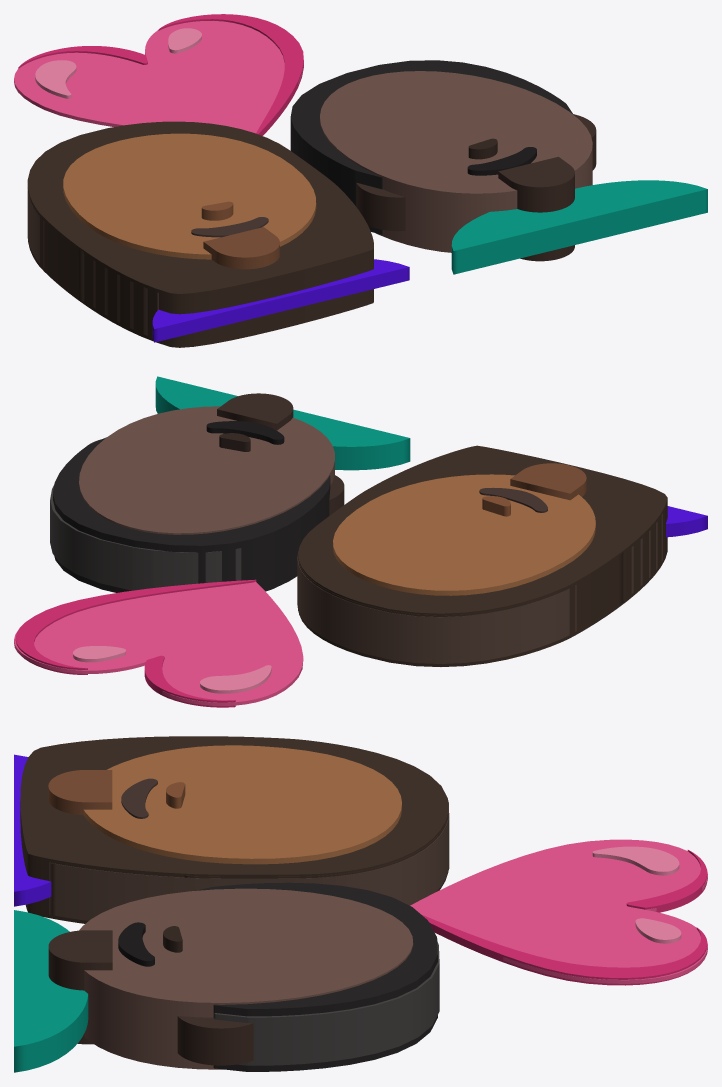
File: emoji_u1f469_1f3fe_200d_2764_200d_1f468_1f3ff.glb
The picture shows the model from 3 angles, top to bottom: view 1: azimuth 30°, elevation 25°; view 2: azimuth 150°, elevation 25°; view 3: azimuth 270°, elevation 25°; orthographic projection. The views are drawn at different scales.
Visible parts, largest first — view 1: emoji_u1f469_1f3fe_200d_2764_200d_1f468_1f3ff; view 2: emoji_u1f469_1f3fe_200d_2764_200d_1f468_1f3ff; view 3: emoji_u1f469_1f3fe_200d_2764_200d_1f468_1f3ff.
Boxes of the visible parts, x1,y1,x2,y2 form: emoji_u1f469_1f3fe_200d_2764_200d_1f468_1f3ff: (14, 14, 707, 347); emoji_u1f469_1f3fe_200d_2764_200d_1f468_1f3ff: (14, 376, 707, 707); emoji_u1f469_1f3fe_200d_2764_200d_1f468_1f3ff: (14, 736, 707, 1072).
Size of the model in its own units: 0.0345 by 0.005 by 0.0339.
